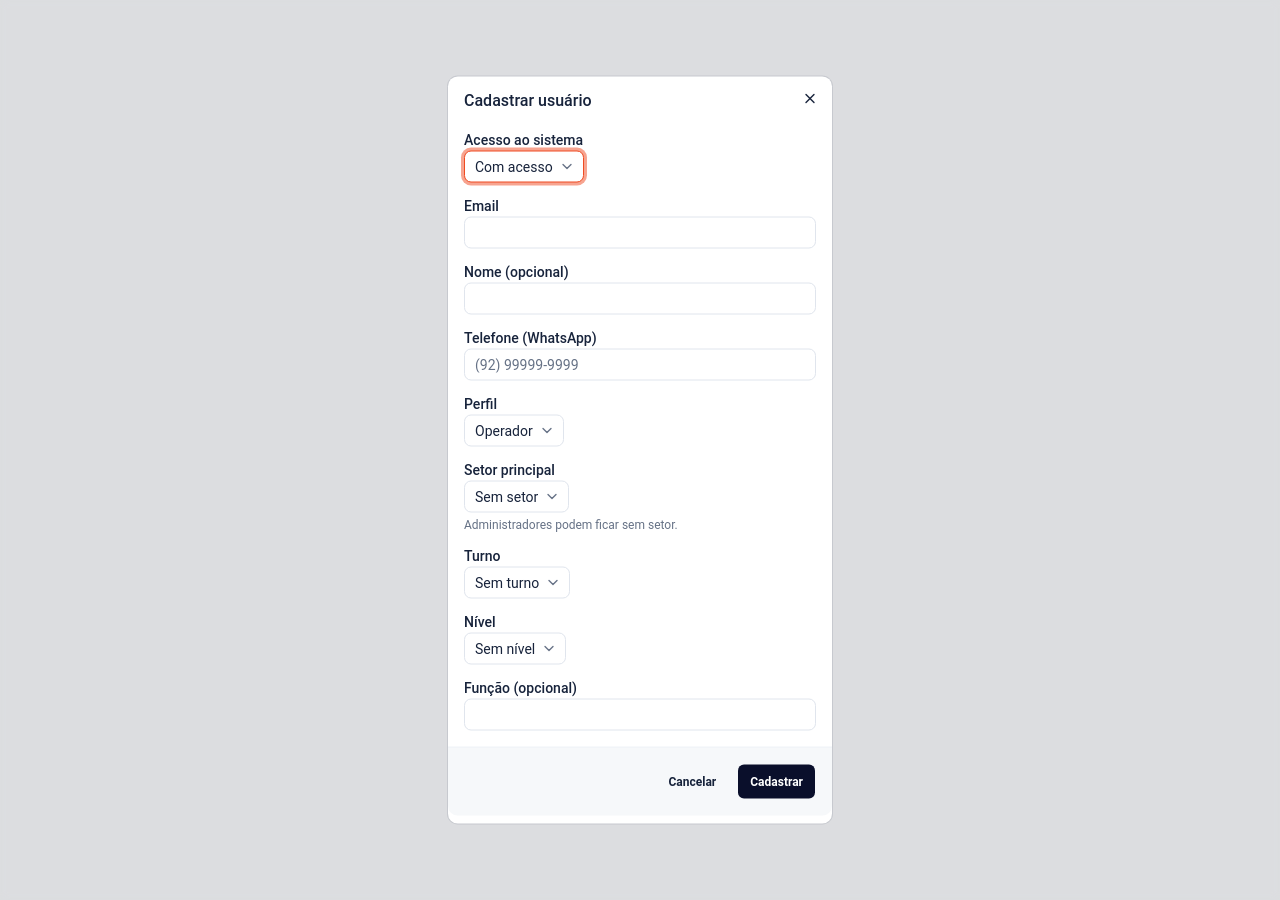
Test case: InviteUserDialog phone › asks for DDD + number when the phone is too short
Type "admin@x.com" into the field labelled "Email" at coordinates (640, 232), box [464,216,816,248]
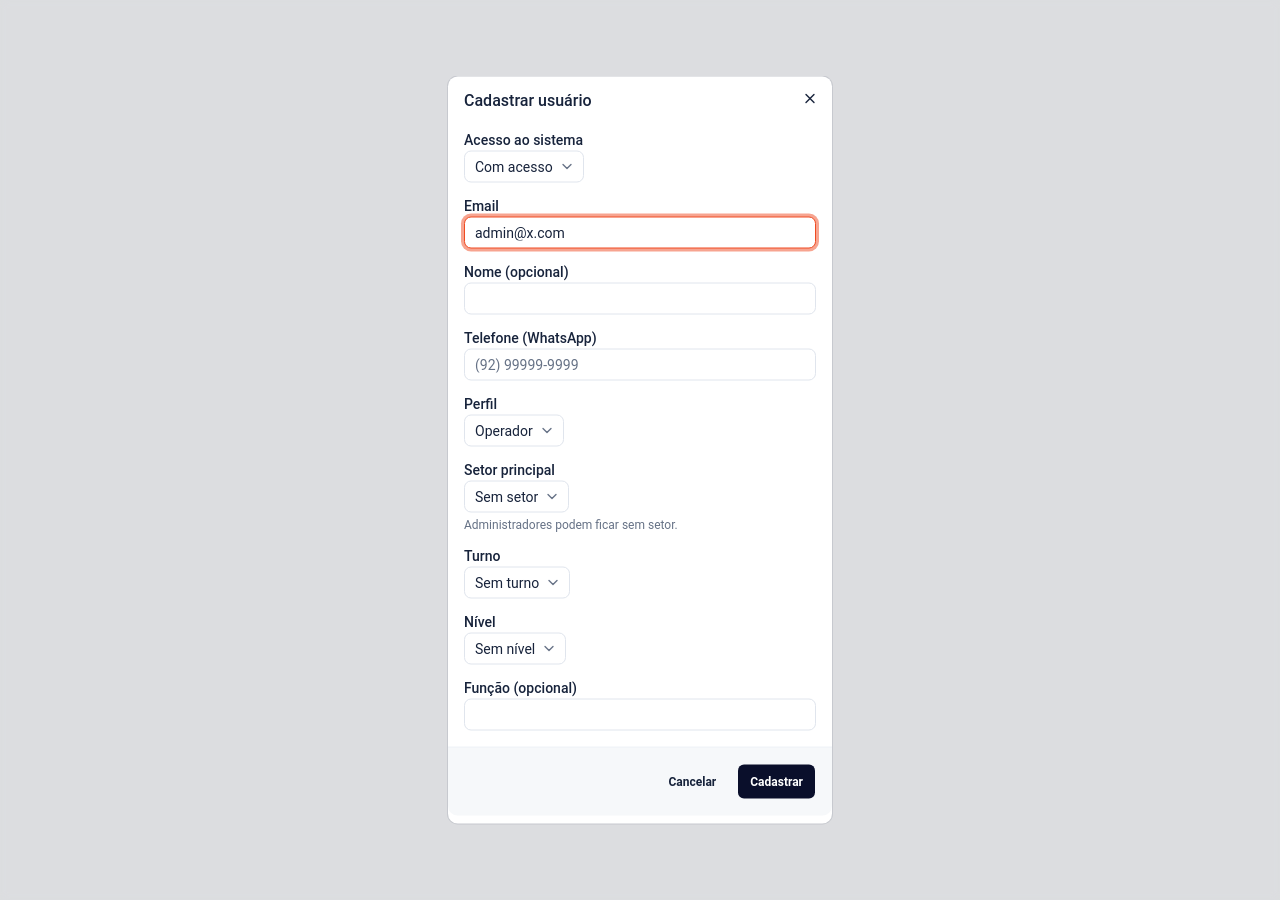
Type "99123" into the field labelled "Telefone (WhatsApp)" at coordinates (640, 364), box [464,348,816,380]
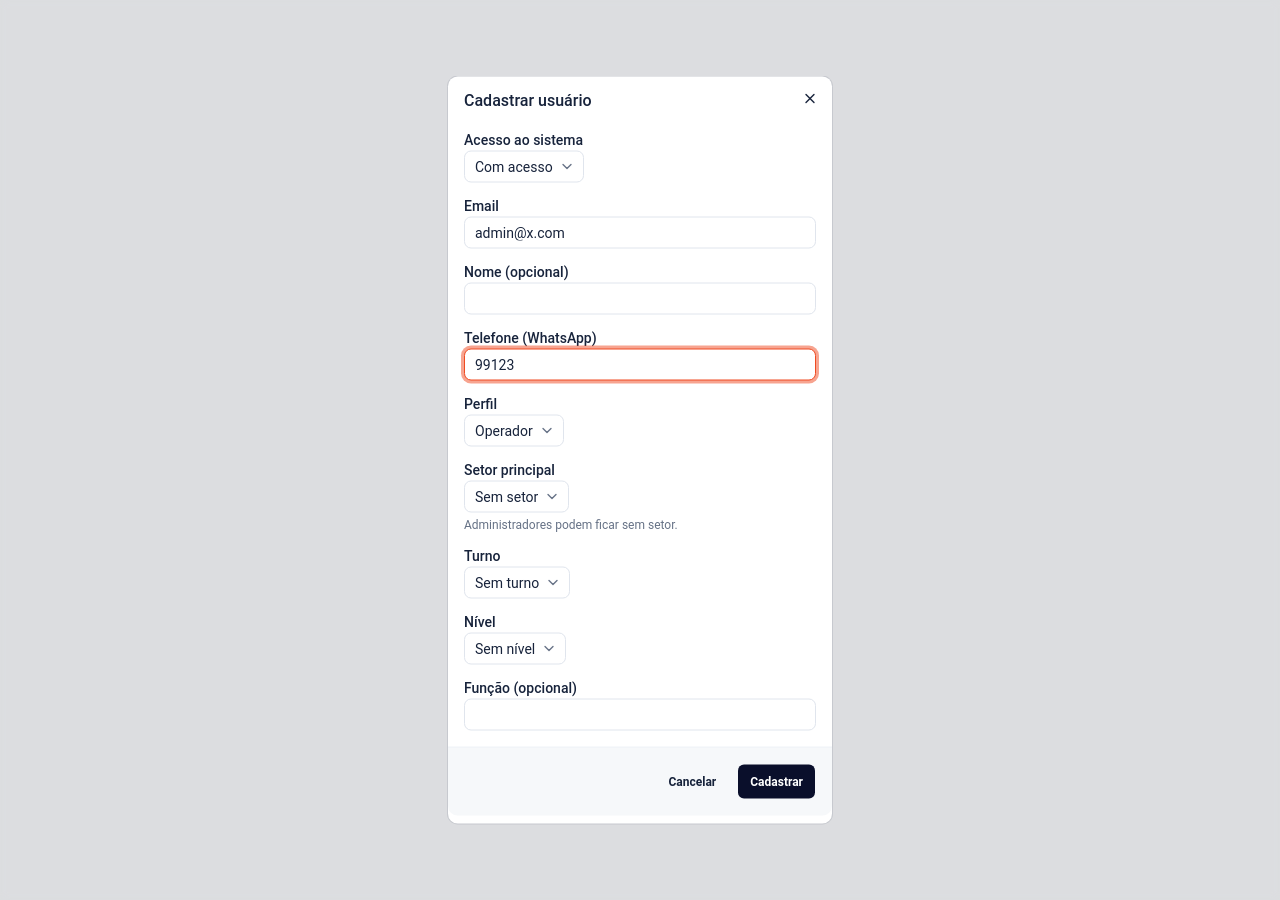
Click the dropdown named "Perfil" at coordinates (514, 430), box [464,414,564,446]
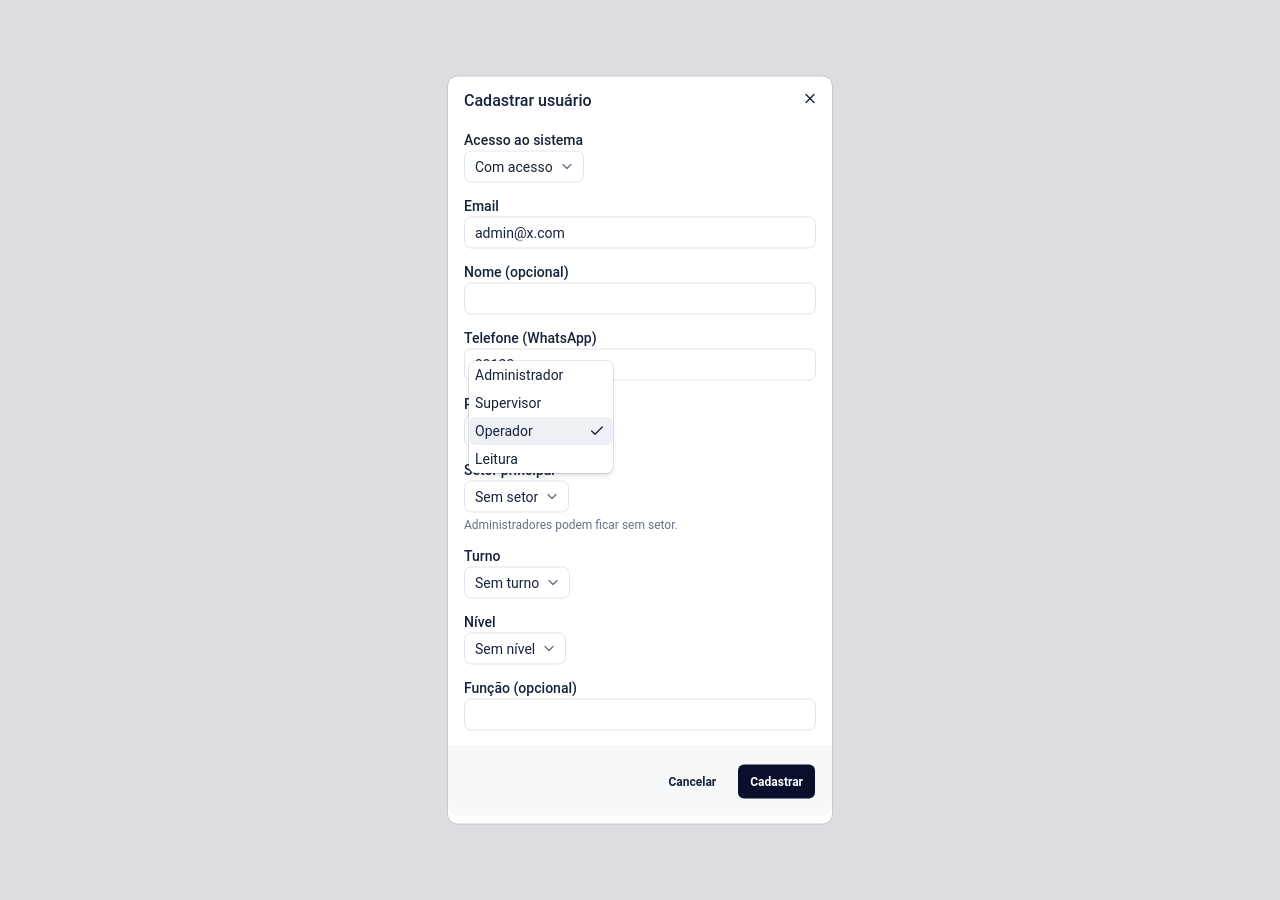
Click the option "Administrador" at coordinates (519, 374), box [475,366,563,382]
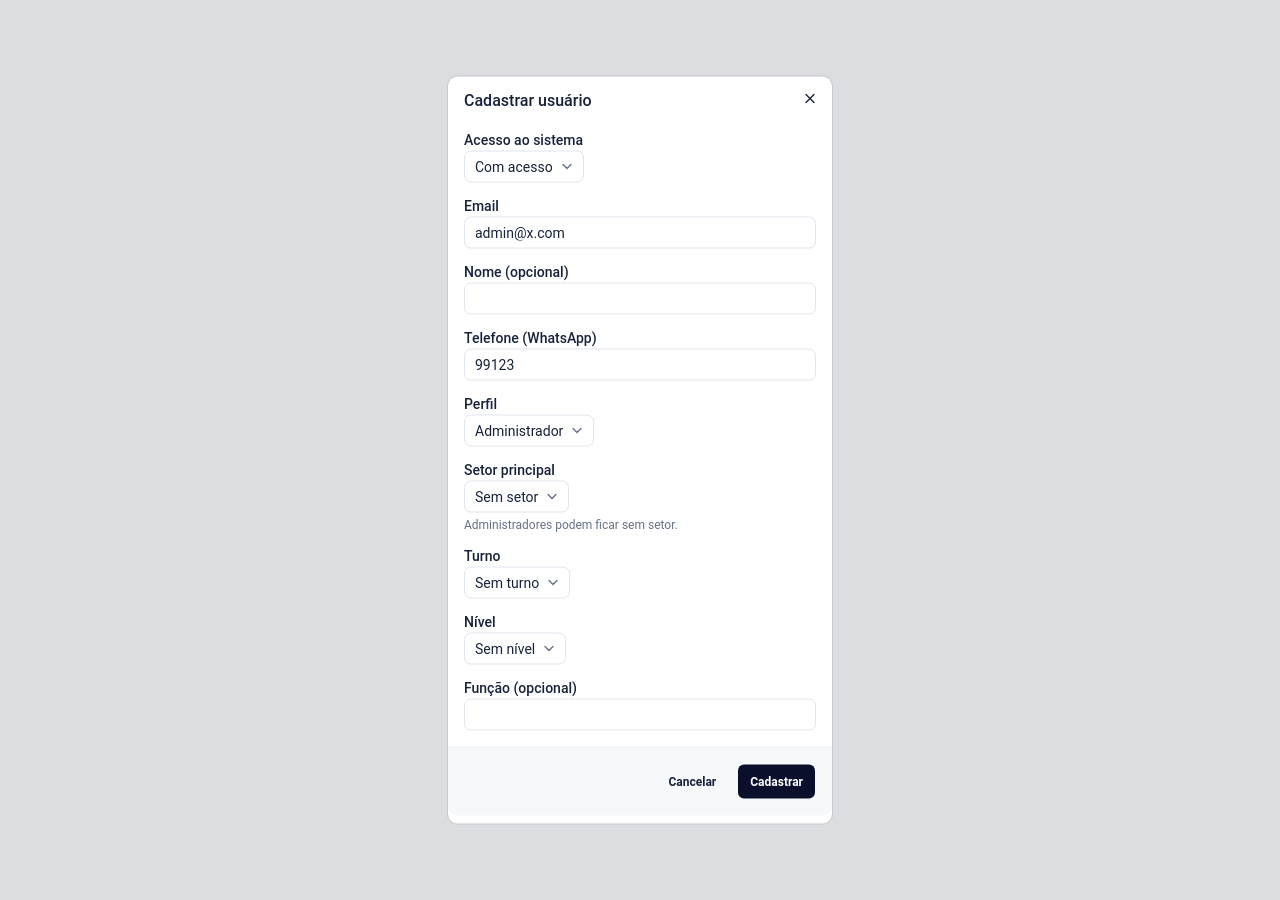
Click the button "Cadastrar" at coordinates (777, 782), box [737,764,816,800]
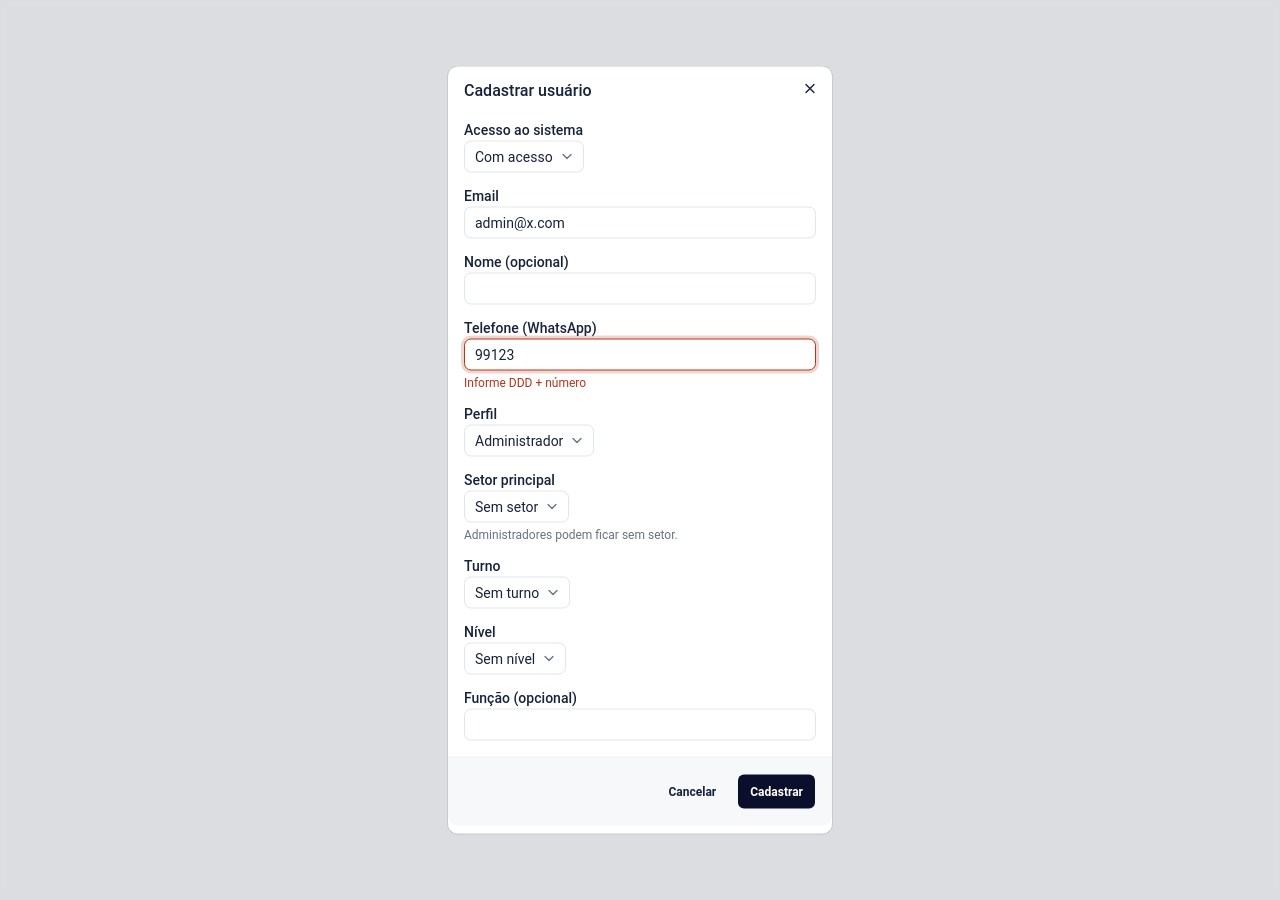
Result: the text "Informe DDD + número" is shown at [464,376,586,390]
